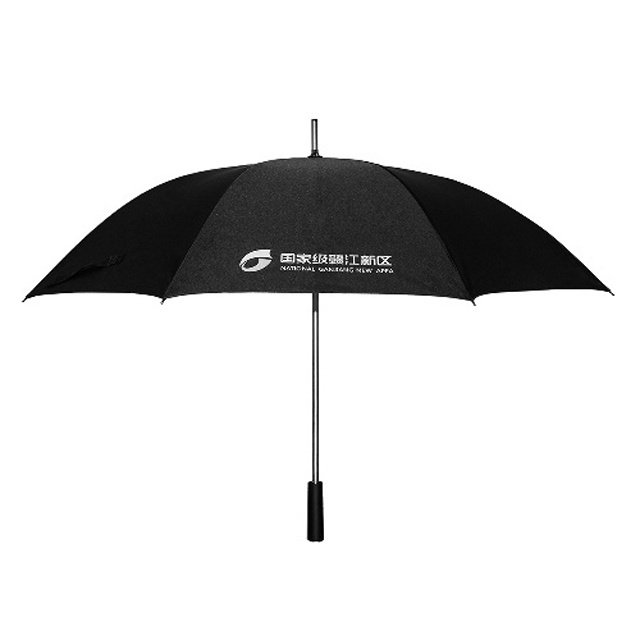umbrella: (13, 115, 622, 548)
